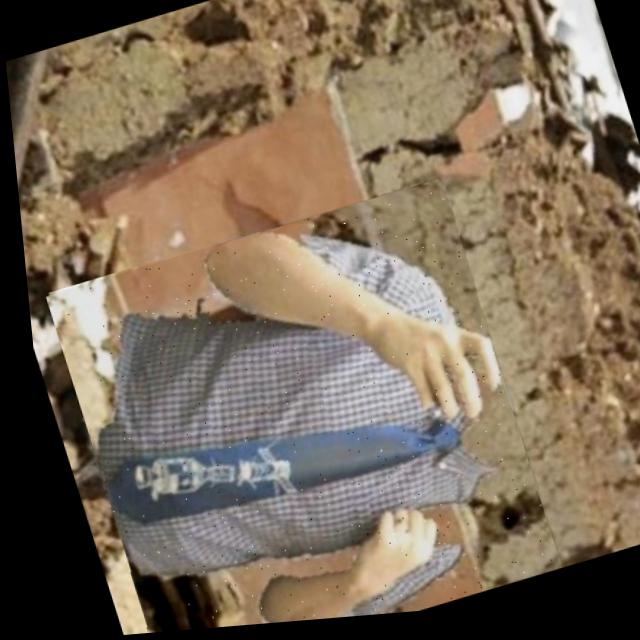Person in Rubble: (30, 179, 551, 639)
